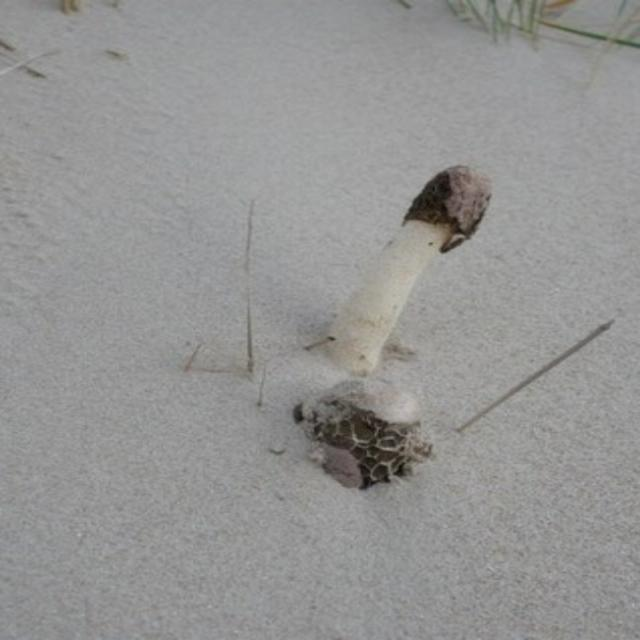Dictyophora indusiate: (324, 168, 491, 375)
